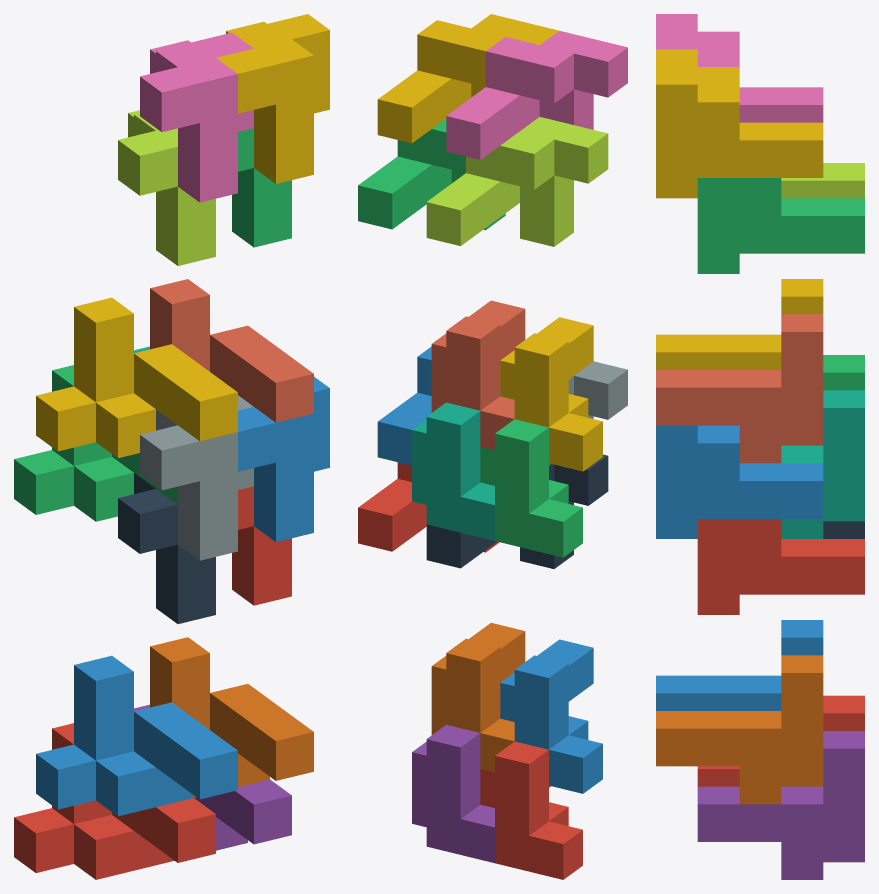
File: tiling.obj
3 views of the same model, side by side, from view 1: azimuth 30°, elevation 25°; view 2: azimuth 150°, elevation 25°; view 3: azimuth 270°, elevation 25° (orthographic). The views are drawn at different scales.
Visible parts, largest first — view 1: copy_1_domain_2, copy_1_domain_4, copy_1_domain_1, copy_2_domain_4, copy_2_domain_8, copy_1_domain_6, copy_1_domain_8, copy_2_domain_2, copy_2_domain_6, copy_1_domain_3, copy_2_domain_3, copy_2_domain_1 (+3 smaller); view 2: copy_2_domain_3, copy_2_domain_4, copy_1_domain_2, copy_1_domain_4, copy_2_domain_8, copy_1_domain_3, copy_1_domain_1, copy_1_domain_5, copy_1_domain_7, copy_1_domain_8, copy_1_domain_6, copy_2_domain_7 (+4 smaller); view 3: copy_2_domain_8, copy_1_domain_6, copy_1_domain_8, copy_1_domain_5, copy_2_domain_6, copy_2_domain_5, copy_2_domain_7, copy_1_domain_7, copy_2_domain_4, copy_1_domain_2, copy_1_domain_4, copy_1_domain_1 (+3 smaller).
Part boxes in pixels (x1,y1,x2,y2): copy_1_domain_2: [36, 655, 237, 816]; copy_1_domain_4: [36, 297, 237, 458]; copy_1_domain_1: [14, 723, 215, 879]; copy_2_domain_4: [140, 32, 253, 202]; copy_2_domain_8: [216, 14, 329, 183]; copy_1_domain_6: [150, 637, 313, 797]; copy_1_domain_8: [150, 279, 313, 422]; copy_2_domain_2: [140, 395, 253, 560]; copy_2_domain_6: [238, 377, 329, 541]; copy_1_domain_3: [14, 365, 177, 521]; copy_2_domain_3: [118, 110, 215, 265]; copy_2_domain_1: [118, 473, 215, 623]; copy_2_domain_3: [426, 117, 608, 246]; copy_2_domain_4: [446, 30, 627, 159]; copy_1_domain_2: [500, 639, 602, 793]; copy_1_domain_4: [500, 317, 602, 471]; copy_2_domain_8: [377, 14, 558, 143]; copy_1_domain_3: [480, 419, 582, 557]; copy_1_domain_1: [480, 741, 582, 879]; copy_1_domain_5: [412, 724, 494, 863]; copy_1_domain_7: [412, 402, 494, 540]; copy_1_domain_8: [431, 300, 525, 449]; copy_1_domain_6: [431, 622, 525, 772]; copy_2_domain_7: [358, 118, 505, 230]; copy_2_domain_8: [656, 49, 823, 198]; copy_1_domain_6: [656, 655, 823, 804]; copy_1_domain_8: [656, 314, 823, 463]; copy_1_domain_5: [697, 731, 864, 879]; copy_2_domain_6: [656, 425, 823, 538]; copy_2_domain_5: [697, 519, 864, 614]; copy_2_domain_7: [697, 178, 864, 273]; copy_1_domain_7: [781, 390, 864, 538]; copy_2_domain_4: [656, 14, 823, 122]; copy_1_domain_2: [656, 620, 823, 710]; copy_1_domain_4: [656, 279, 823, 369]; copy_1_domain_1: [697, 695, 864, 786].
Bounding box in the file's own units: 6 × 21 × 5.
